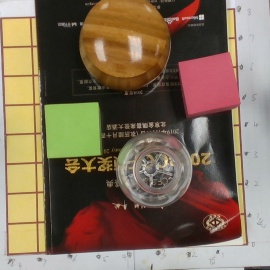bottle: (117, 133, 193, 207)
chess: (80, 1, 170, 90)
